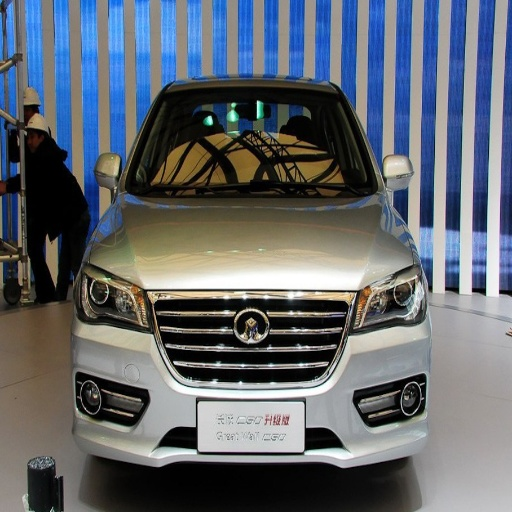front_bumper: (73, 289, 432, 466)
front_right_light: (78, 262, 150, 329)
hood: (92, 191, 414, 290)
